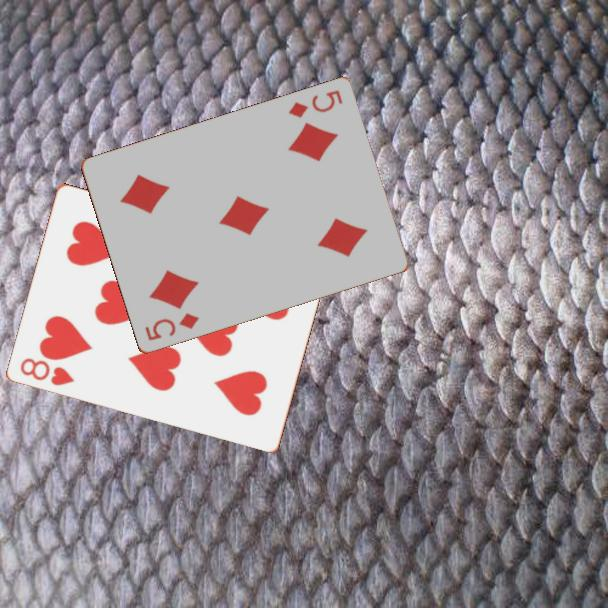d05: (141, 310, 202, 344), (285, 87, 345, 121)
h08: (17, 354, 77, 388)
